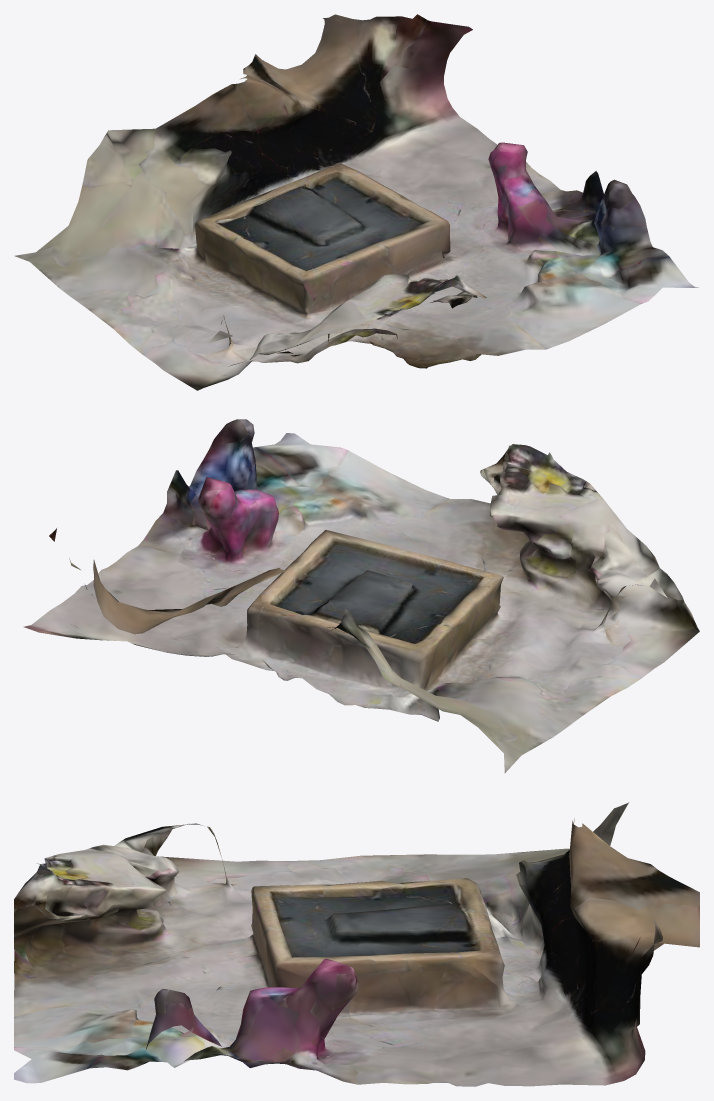
File: hall.glb
The picture shows the model from 3 angles, top to bottom: view 1: azimuth 30°, elevation 25°; view 2: azimuth 150°, elevation 25°; view 3: azimuth 270°, elevation 25°; orthographic projection. The views are drawn at different scales.
Size of the model in its own units: 2.19 by 0.6409 by 2.37.
1 material, 1 textured.
